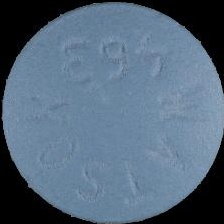33261-545: (0, 0, 224, 224)
